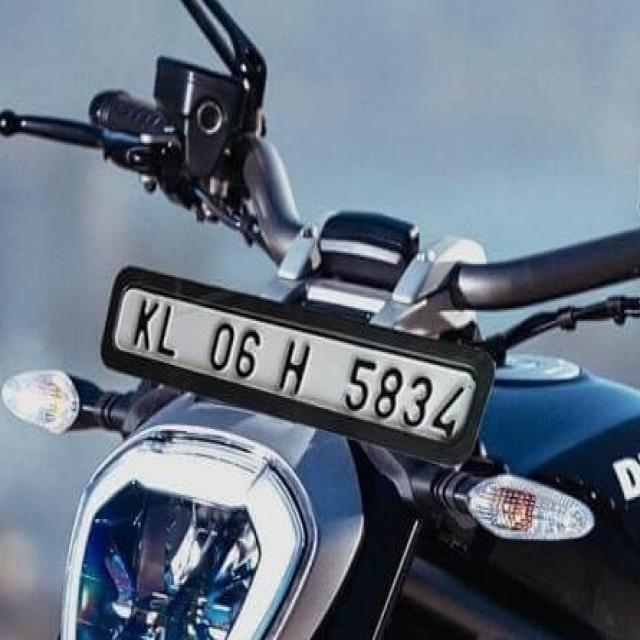number_plate: (114, 273, 480, 444)
